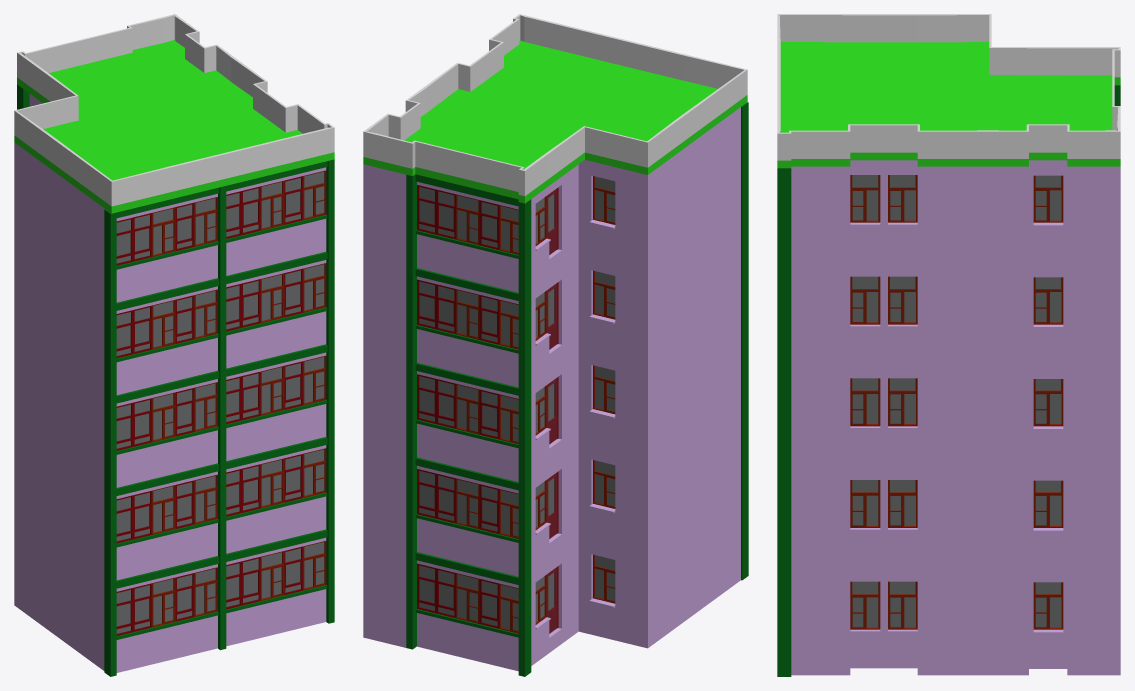
File: SM_Building_3.fbx
3 renders of one model, left to right at view 1: azimuth 30°, elevation 25°; view 2: azimuth 150°, elevation 25°; view 3: azimuth 270°, elevation 25°, orthographic. The views are drawn at different scales.
Parts seen in each view (by area): view 1: Plane.017; view 2: Plane.017; view 3: Plane.017.
Part boxes in pixels (x1,y1,x2,y2): Plane.017: (14, 14, 334, 676); Plane.017: (363, 14, 748, 676); Plane.017: (777, 14, 1120, 676).
Size of the model in its own units: 953 by 2009 by 1149.
